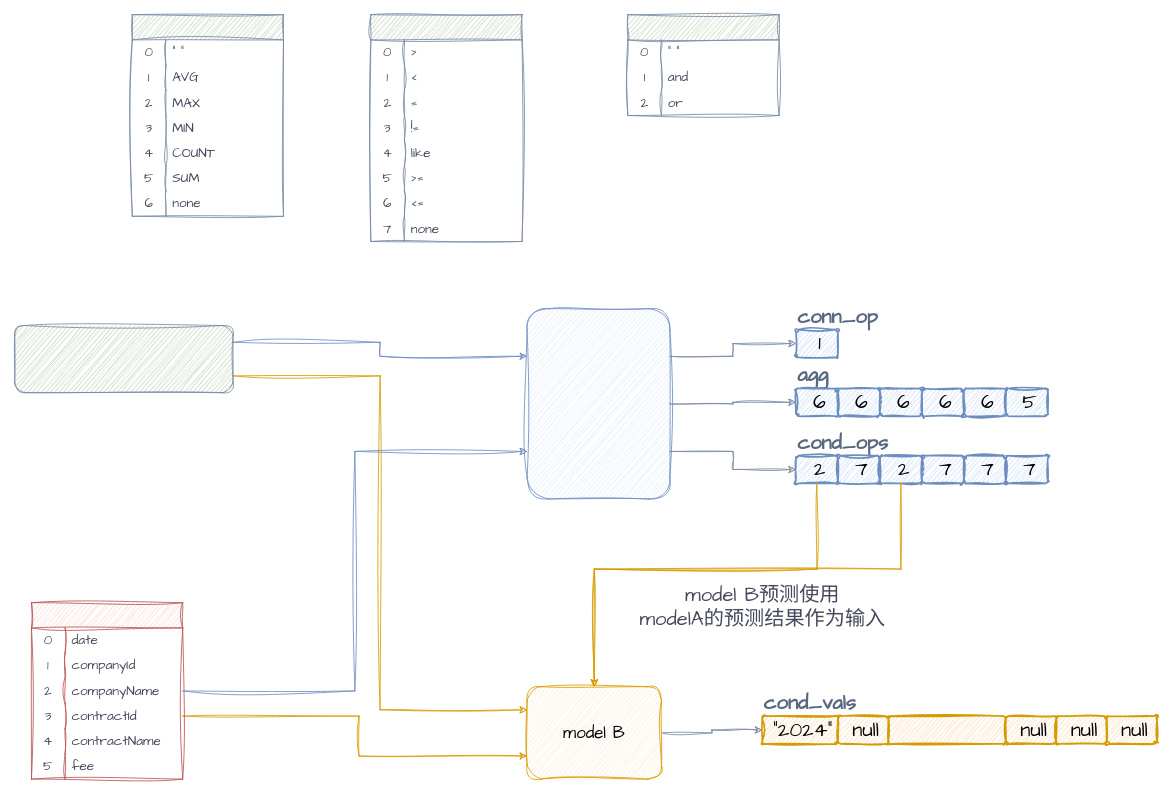
Image size: 1173x794. Some labels were removed from this diagram. The shapes that lost their labels are listed below. From the top down, each one's box as (x1, y1, x2, y2) in pixels, then its label:
(627, 14, 779, 116): 连接操作符(conn_op)
(131, 14, 284, 216): 聚合函数(agg)
(370, 14, 522, 242): 条件操作符(cond_op)
(14, 325, 233, 393): question 2024年分公司A的合同总额
(526, 308, 670, 499): model A
(31, 602, 183, 779): Table(contract)
(887, 715, 1006, 744): "分公司A"
